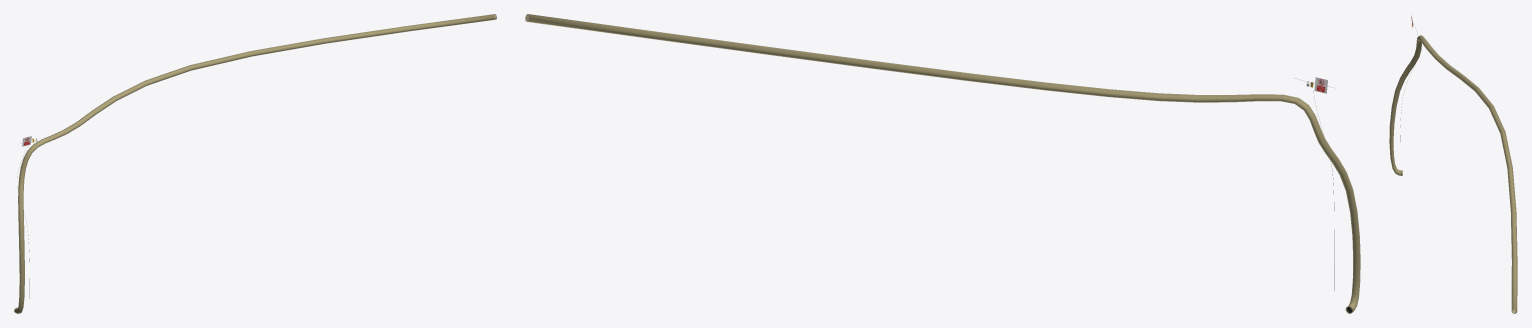
File: Confined space props.fbx
3 views of the same model, side by side, from view 1: azimuth 30°, elevation 25°; view 2: azimuth 150°, elevation 25°; view 3: azimuth 270°, elevation 25° (orthographic). The views are drawn at different scales.
Parts seen in each view (by area): view 1: Object_9.001; view 2: Object_9.001; view 3: Object_9.001.
Part boxes in pixels (<box>): Object_9.001: <box>14,14,496,313</box>; Object_9.001: <box>525,14,1360,313</box>; Object_9.001: <box>1389,35,1517,313</box>.
Bounding box in the file's own units: 1557 × 467 × 325.
8 materials, 6 textured.
